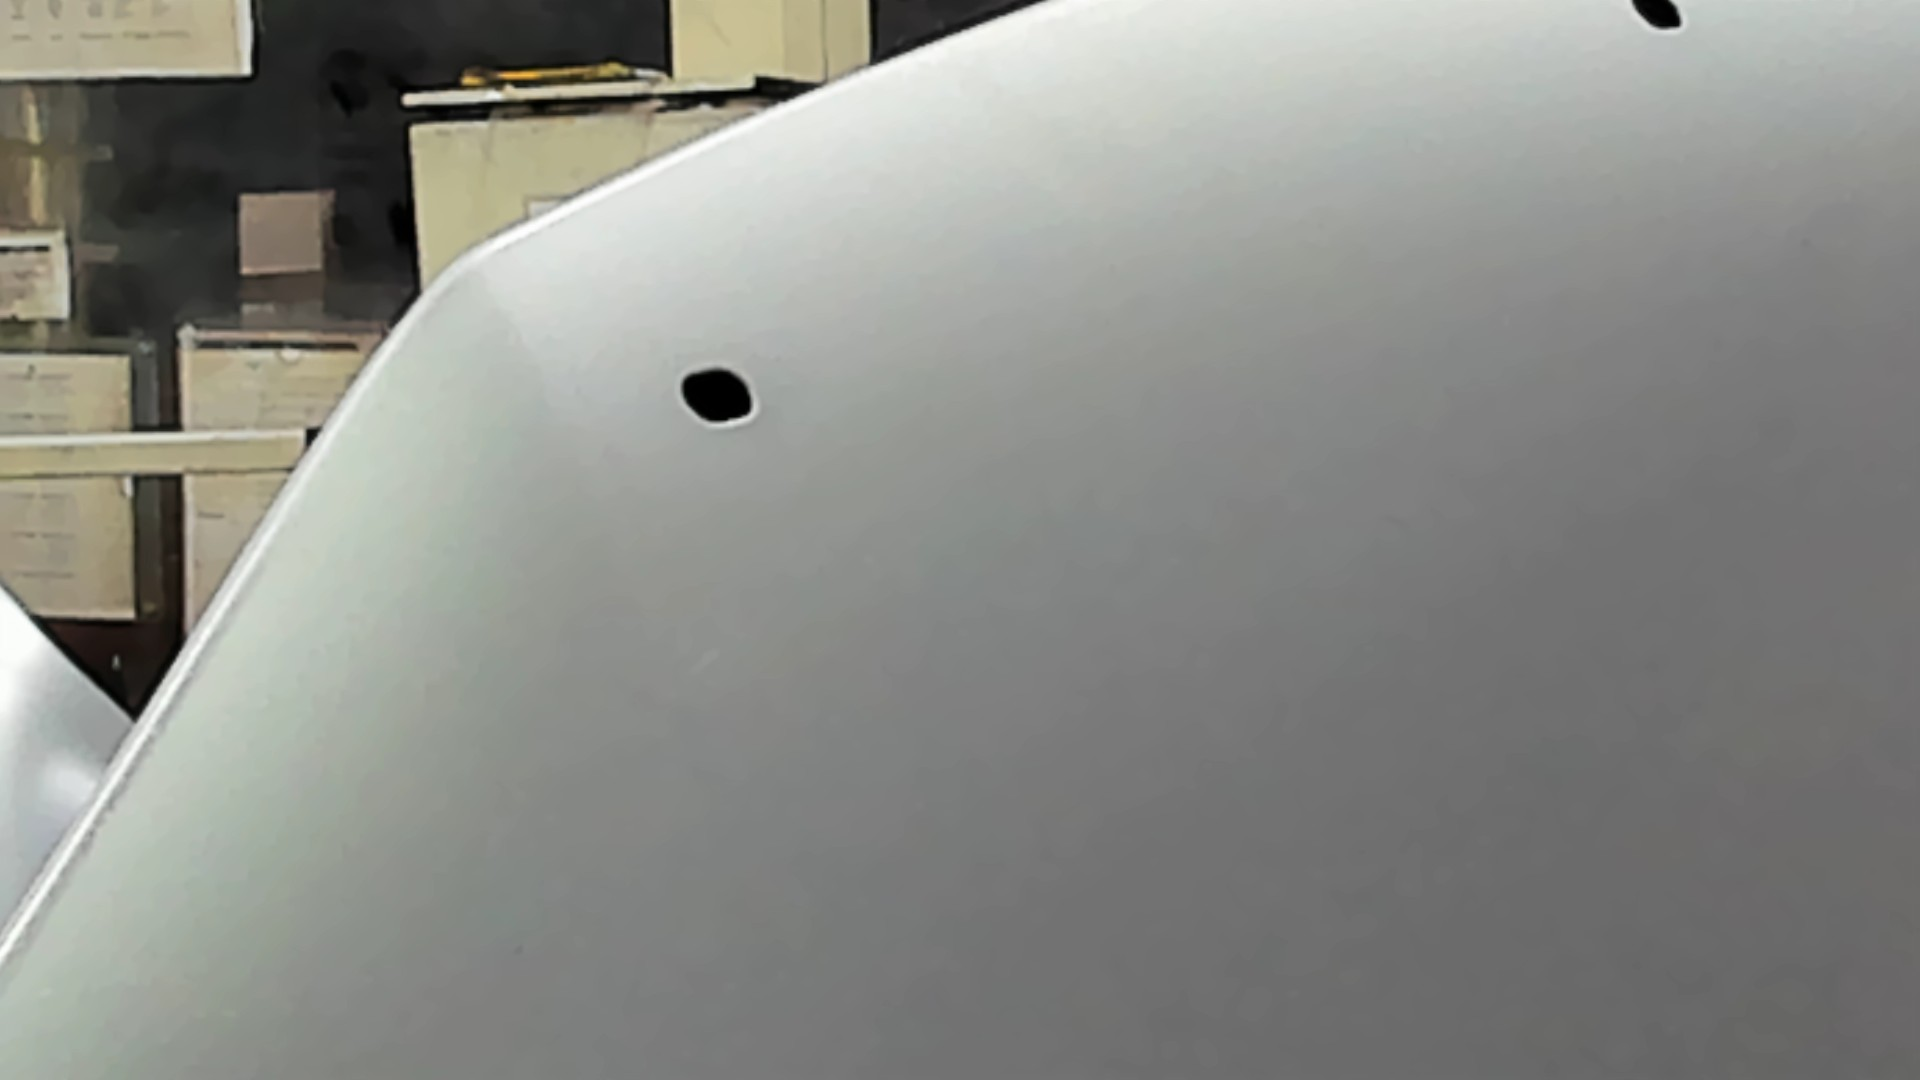amorfo: (673, 360, 760, 431), (1623, 1, 1688, 36)
capo: (848, 109, 1920, 1080)
